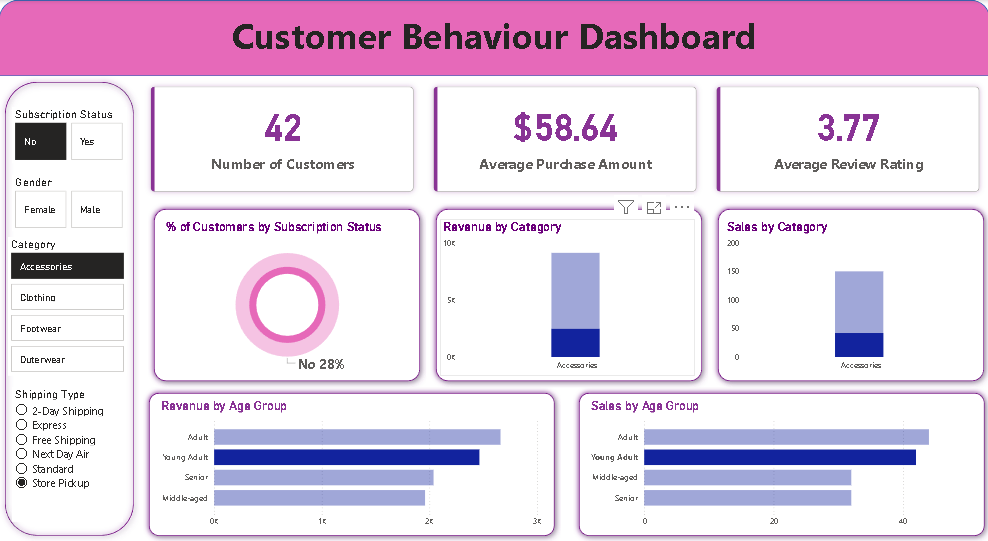

This screenshot's page, from the dashboard's own definition file:
{"tool":"powerbi","page":{"name":"Page 1","canvas":[1500,820],"ordinal":0},"visuals":[{"type":"cardVisual","fields":{"Data":["public customer.Number of Customers","public customer.Average Purchase Amount","public customer.Average Review Rating"]},"box":[212.9,115.3,1286.5,191.6],"z":2000},{"type":"shape","box":[218.3,585.6,631.7,234.2],"z":2500,"group":"g1"},{"type":"shape","box":[0,0,1499.4,115.3],"z":3000},{"type":"textbox","box":[0,12.4,1499.4,102.9],"z":4000},{"type":"shape","box":[225.4,307,420.5,278.6],"z":5000},{"type":"donutChart","title":"% of Customers by Subscription Status","fields":{"Category":["public customer.subscription_status"],"Y":["CountNonNull(public customer.customer_id)"]},"box":[248.4,331.8,376.2,237.8],"z":6000},{"type":"shape","box":[1078.9,307,420.5,278.6],"z":7000},{"type":"shape","box":[652.1,307,420.5,278.6],"z":8000},{"type":"clusteredColumnChart","title":"Revenue by Category","fields":{"Y":["Sum(public customer.purchase_amount)"],"Category":["public customer.category"]},"box":[667.2,331.8,385.1,237.8],"z":9000},{"type":"clusteredColumnChart","title":"Sales by Category","fields":{"Y":["CountNonNull(public customer.customer_id)"],"Category":["public customer.category"]},"box":[1096.6,331.8,385.1,237.8],"z":10000},{"type":"shape","box":[0,115.3,212.9,704.5],"z":11000},{"type":"advancedSlicerVisual","fields":{"Values":["public customer.subscription_status"]},"box":[19.5,161.5,173.9,85.2],"z":12000},{"type":"advancedSlicerVisual","fields":{"Values":["public customer.gender"]},"box":[19.5,264.4,173.9,85.2],"z":13000},{"type":"advancedSlicerVisual","fields":{"Values":["public customer.category"]},"box":[13.6,358.6,180,210.3],"z":14000},{"type":"listSlicer","fields":{"Values":["public customer.shipping_type"]},"box":[19.7,585.5,167.9,204.2],"z":15000},{"type":"shape","box":[867.7,585.6,631.7,234.2],"z":16000},{"type":"clusteredBarChart","title":"Sales by Age Group","fields":{"Y":["CountNonNull(public customer.customer_id)"],"Category":["public customer.age_group"]},"box":[890.8,601.5,585.6,204.1],"z":17000},{"type":"clusteredBarChart","title":"Revenue by Age Group","fields":{"Y":["Sum(public customer.purchase_amount)"],"Category":["public customer.age_group"]},"box":[241.4,601.6,585.6,204.1],"z":17500,"group":"g1"},{"type":"group","id":"g1","title":"Group 1","box":[218.3,585.6,631.7,234.2],"z":17501}]}

Visuals, with their boxes in screenshot pixels (x1, y1, x2, y2), scaled from the page's 1500x820 canvas onto the 988x541 screenshot:
cardVisual - public customer.Number of Customers x public customer.Average Purchase Amount: rect(140, 76, 987, 202)
shape: rect(144, 386, 560, 540)
shape: rect(0, 0, 987, 76)
textbox: rect(0, 8, 987, 76)
shape: rect(148, 203, 425, 386)
"% of Customers by Subscription Status" donutChart: rect(164, 219, 411, 376)
shape: rect(711, 203, 987, 386)
shape: rect(430, 203, 706, 386)
"Revenue by Category" clusteredColumnChart: rect(439, 219, 693, 376)
"Sales by Category" clusteredColumnChart: rect(722, 219, 976, 376)
shape: rect(0, 76, 140, 540)
advancedSlicerVisual - public customer.subscription_status: rect(13, 107, 127, 163)
advancedSlicerVisual - public customer.gender: rect(13, 174, 127, 231)
advancedSlicerVisual - public customer.category: rect(9, 237, 128, 375)
listSlicer - public customer.shipping_type: rect(13, 386, 124, 521)
shape: rect(572, 386, 987, 540)
"Sales by Age Group" clusteredBarChart: rect(587, 397, 972, 531)
"Revenue by Age Group" clusteredBarChart: rect(159, 397, 545, 532)
"Group 1" group: rect(144, 386, 560, 540)
